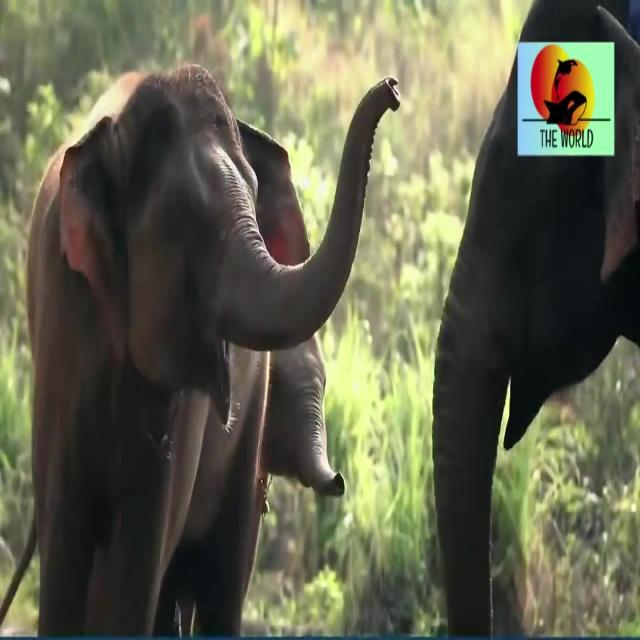Elephant: (21, 68, 386, 615), (436, 19, 640, 610), (251, 330, 363, 500)
